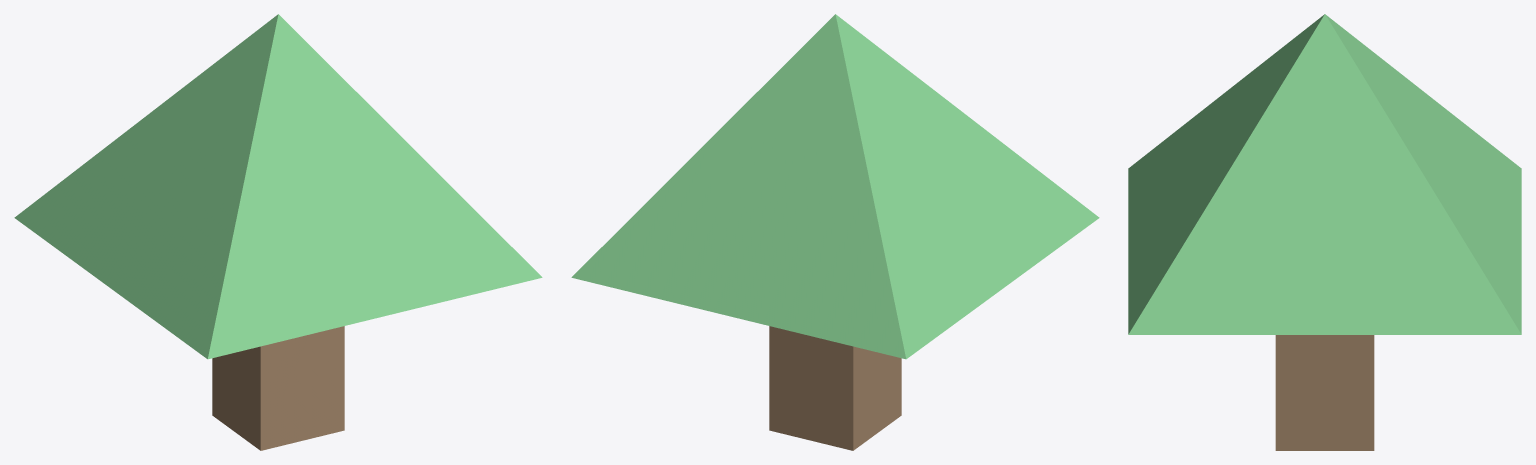
The model's file is tree.glb.
3 renders of one model, left to right at view 1: azimuth 30°, elevation 25°; view 2: azimuth 150°, elevation 25°; view 3: azimuth 270°, elevation 25°, orthographic.
Visible parts, largest first — view 1: Tree; view 2: Tree; view 3: Tree.
Part boxes in pixels (x1,y1,x2,y2): Tree: [14, 14, 542, 450]; Tree: [571, 14, 1099, 450]; Tree: [1128, 14, 1521, 450].
Bounding box in the file's own units: 1.2 × 1.4 × 1.2.
